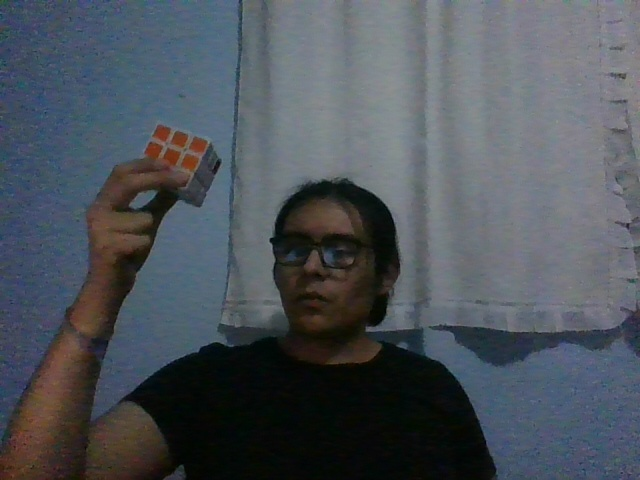rubik: (139, 120, 222, 208)
